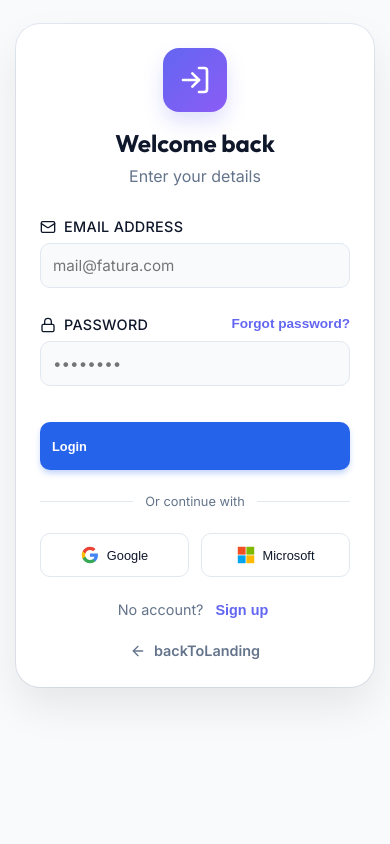
Test case: Auth page integration › shows login error when auth rejects
The image size is (390, 844).
Type "user@example.com" into the field with placeholder "mail@fatura.com" at (195, 266), box [40,243,350,288]
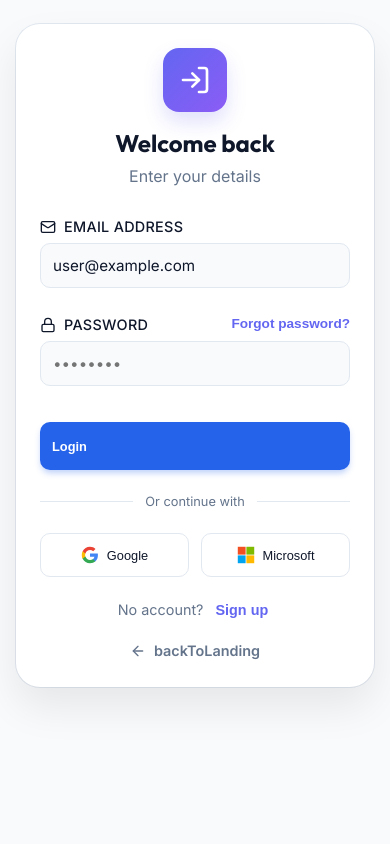
Type "bad-password" into the password field with placeholder "••••••••" at (195, 364), box [40,341,350,386]
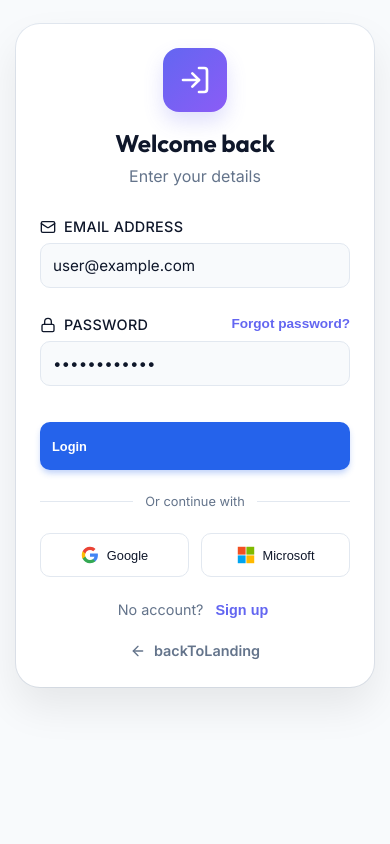
Click the button "Login" at (69, 446), box [40,422,350,470]
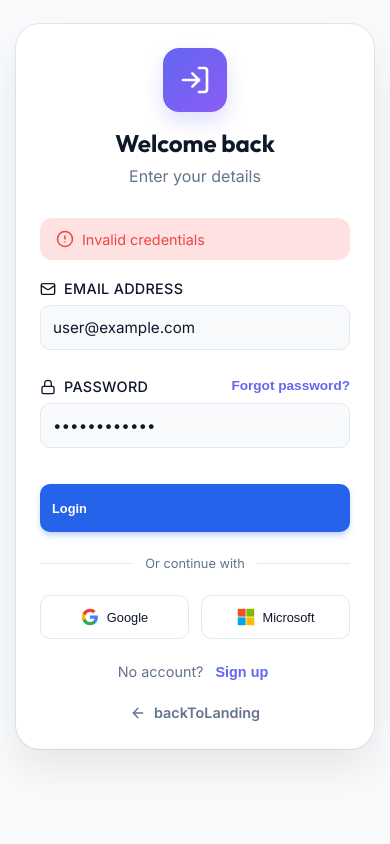
expect the text "Invalid credentials" is shown: met, box [40,218,350,260]
